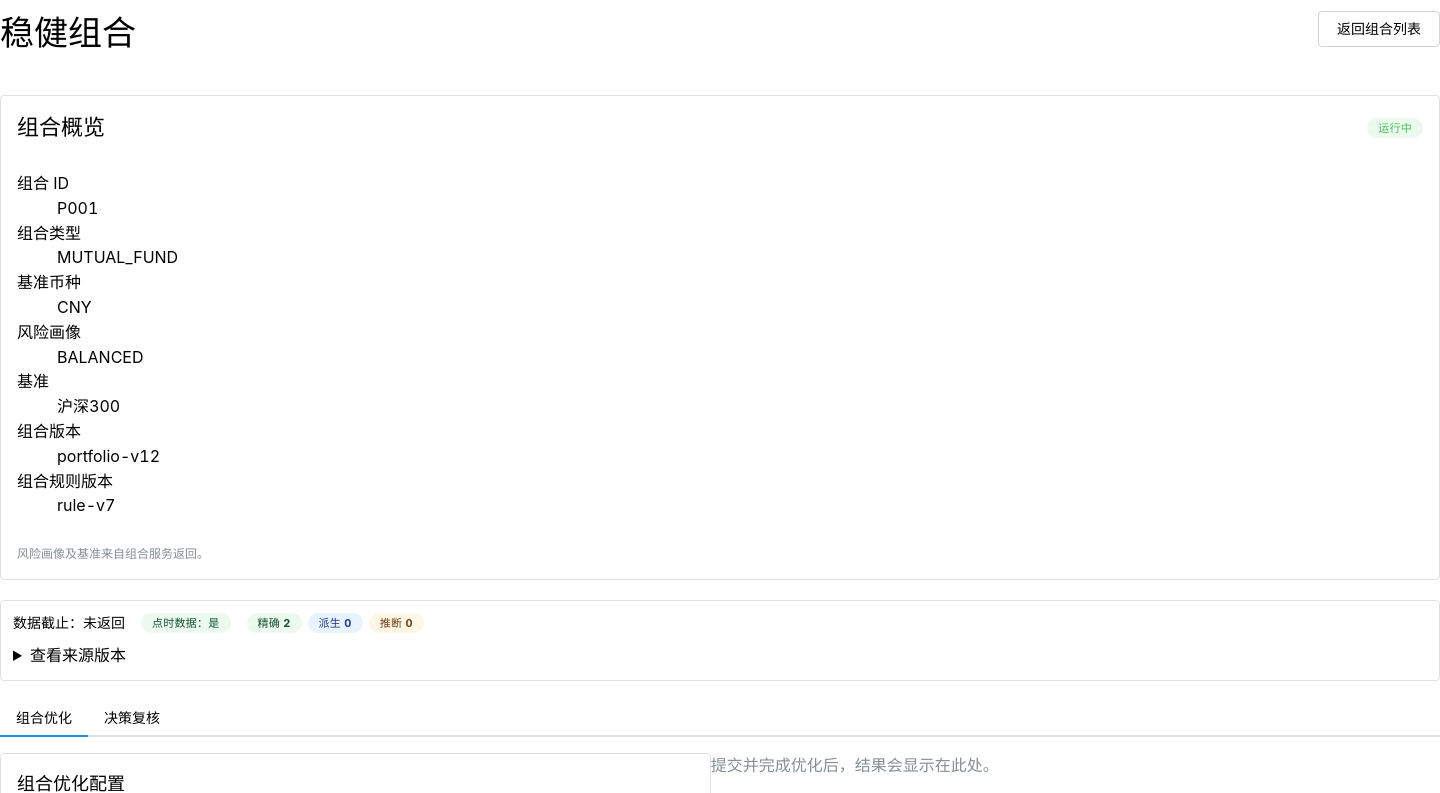
PortfolioDecisionPage › does not expose decision review controls without the server capability
expect the heading "稳健组合" is shown: met, box [0, 11, 136, 55]
What coordinates should you click on to do the following:
click the tab "决策复核"
I would click on:
 (132, 719)
Its box is [88, 701, 176, 737].
(page scrolled)
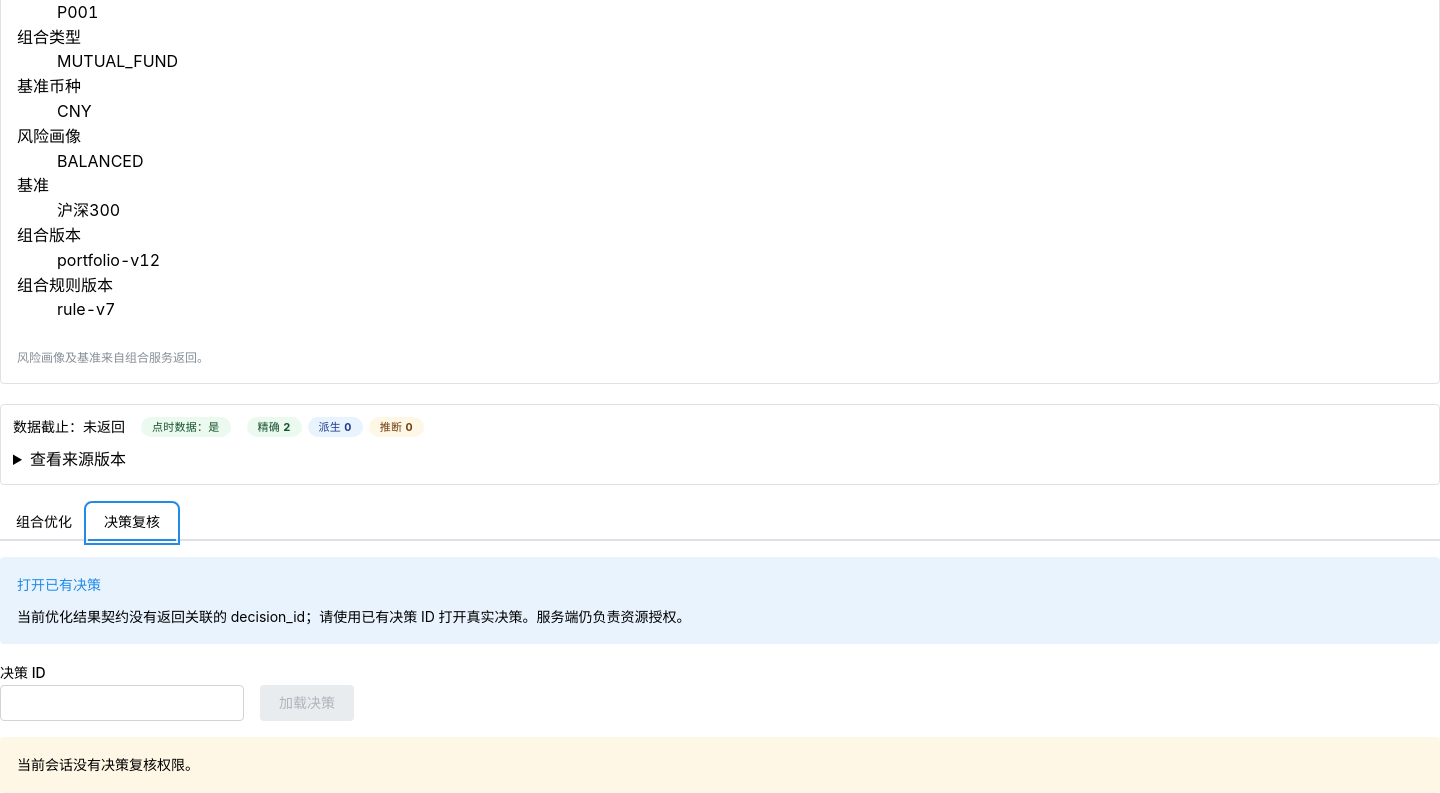
expect the text "当前会话没有决策复核权限。" is shown: met, box [17, 756, 199, 773]
